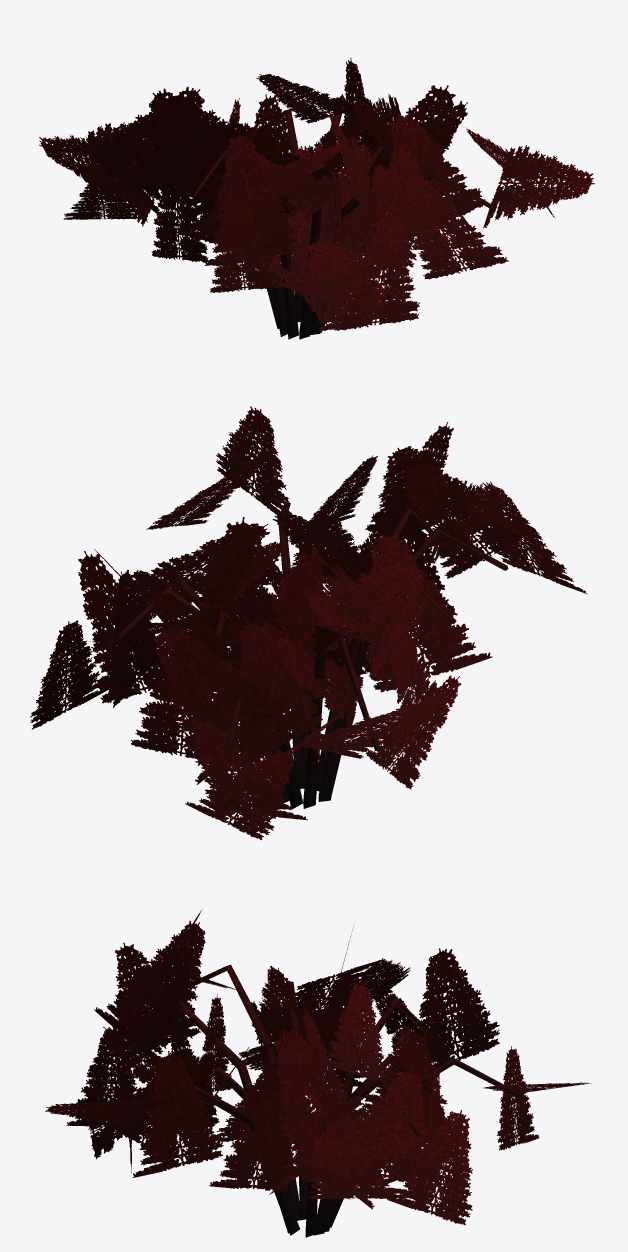
File: bush_taiga_juniper_a.glb
The picture shows the model from 3 angles, top to bottom: view 1: azimuth 30°, elevation 25°; view 2: azimuth 150°, elevation 25°; view 3: azimuth 270°, elevation 25°; orthographic projection. The views are drawn at different scales.
Parts seen in each view (by area): view 1: bush_taiga_juniper_a; view 2: bush_taiga_juniper_a; view 3: bush_taiga_juniper_a.
Boxes of the visible parts, x1,y1,x2,y2 form: bush_taiga_juniper_a: (39, 57, 594, 339); bush_taiga_juniper_a: (30, 406, 587, 840); bush_taiga_juniper_a: (45, 910, 591, 1237).
Bounding box in the file's own units: 1.33 × 0.9022 × 1.68.
Materials: 1 (1 with a texture image).
